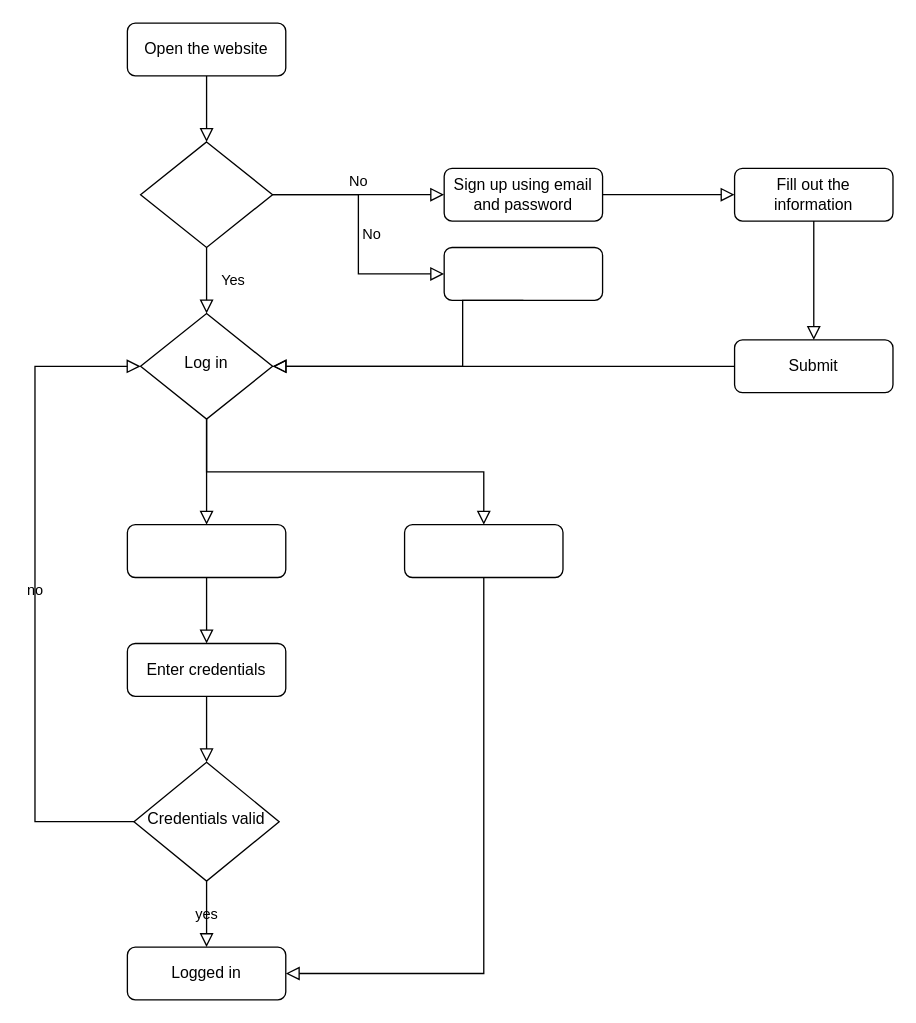
The diagram is 916 pixels wide and 1023 high, and some of its shapes have lost their labels. Here are the shapes that lost their labels. From the top down, the centre of each, then its label:
pixel 206 194: Registered
pixel 523 273: Sign up using google account
pixel 206 550: Log in using email and password
pixel 483 550: Log in using google account
